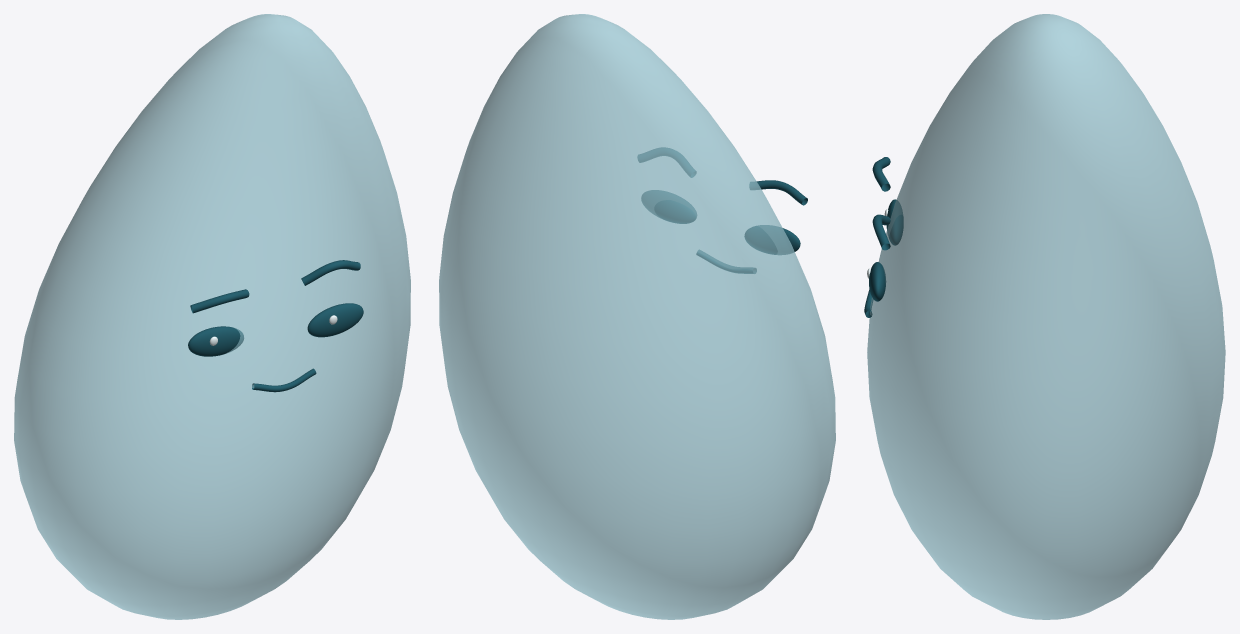
The model's file is water-v1.glb.
The picture shows the model from 3 angles, left to right: view 1: azimuth 30°, elevation 25°; view 2: azimuth 150°, elevation 25°; view 3: azimuth 270°, elevation 25°; orthographic projection. The views are drawn at different scales.
Parts seen in each view (by area): view 1: A | continuous asymmetric jelly, A | almond gaze 1, A | almond gaze -1, A | expressive brow 1, A | expressive brow -1; view 2: A | continuous asymmetric jelly, A | almond gaze -1, A | almond gaze 1, A | expressive brow 1, A | expressive brow -1; view 3: A | continuous asymmetric jelly, A | almond gaze -1, A | almond gaze 1.
Part boxes in pixels (<box>): A | continuous asymmetric jelly: <box>14,14,410,619</box>; A | almond gaze 1: <box>307,303,363,337</box>; A | almond gaze -1: <box>188,326,243,356</box>; A | expressive brow 1: <box>301,260,360,285</box>; A | expressive brow -1: <box>190,289,249,313</box>; A | continuous asymmetric jelly: <box>439,14,835,619</box>; A | almond gaze -1: <box>744,225,800,254</box>; A | almond gaze 1: <box>641,190,696,223</box>; A | expressive brow 1: <box>637,147,696,177</box>; A | expressive brow -1: <box>749,180,807,205</box>; A | continuous asymmetric jelly: <box>867,14,1225,619</box>; A | almond gaze -1: <box>886,199,903,245</box>; A | almond gaze 1: <box>869,262,886,301</box>.
Size of the model in its own units: 1.53 by 2.3 by 1.21.
